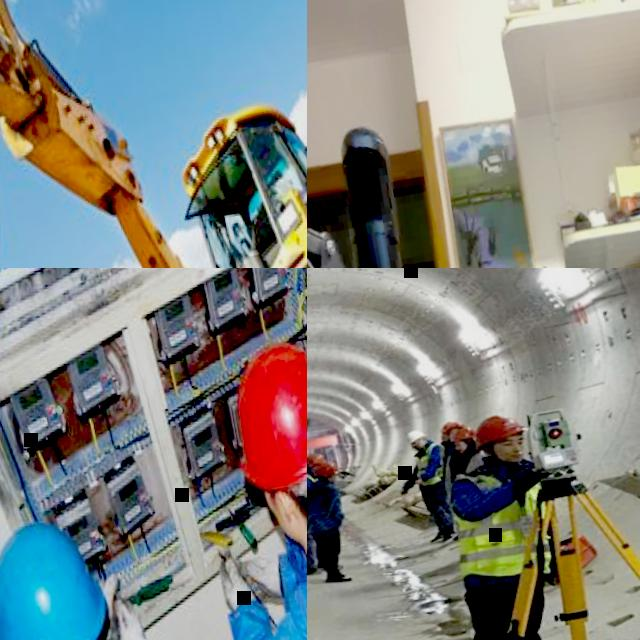Hardhat: (0, 516, 119, 640), (220, 333, 307, 496), (469, 410, 525, 449), (447, 425, 478, 443), (312, 460, 339, 477), (405, 427, 430, 444), (307, 451, 326, 466), (439, 419, 458, 432)
Mask: (411, 442, 423, 452)
NO-Mask: (277, 505, 303, 543), (499, 446, 527, 465), (458, 444, 468, 454), (329, 475, 337, 482)
NO-Safety Vest: (260, 521, 307, 640), (440, 448, 488, 499), (307, 479, 343, 536), (440, 442, 457, 467)
Person: (417, 405, 592, 640), (176, 328, 307, 640), (0, 501, 190, 640), (389, 423, 460, 549), (429, 418, 484, 543), (307, 458, 356, 585), (307, 450, 346, 574), (441, 426, 483, 481), (307, 445, 321, 579)
Safety Vest: (441, 456, 562, 591), (409, 441, 445, 485), (307, 470, 316, 488)
vehicle: (0, 0, 307, 268)
